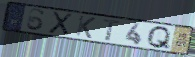4: (124, 22, 143, 47)
6: (25, 8, 47, 33)
K: (74, 14, 97, 40)
Q: (145, 25, 173, 51)
T: (102, 19, 122, 43)
X: (47, 11, 75, 37)
